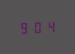four: (43, 19, 54, 33)
nine: (18, 20, 29, 34)
zero: (31, 20, 42, 33)
